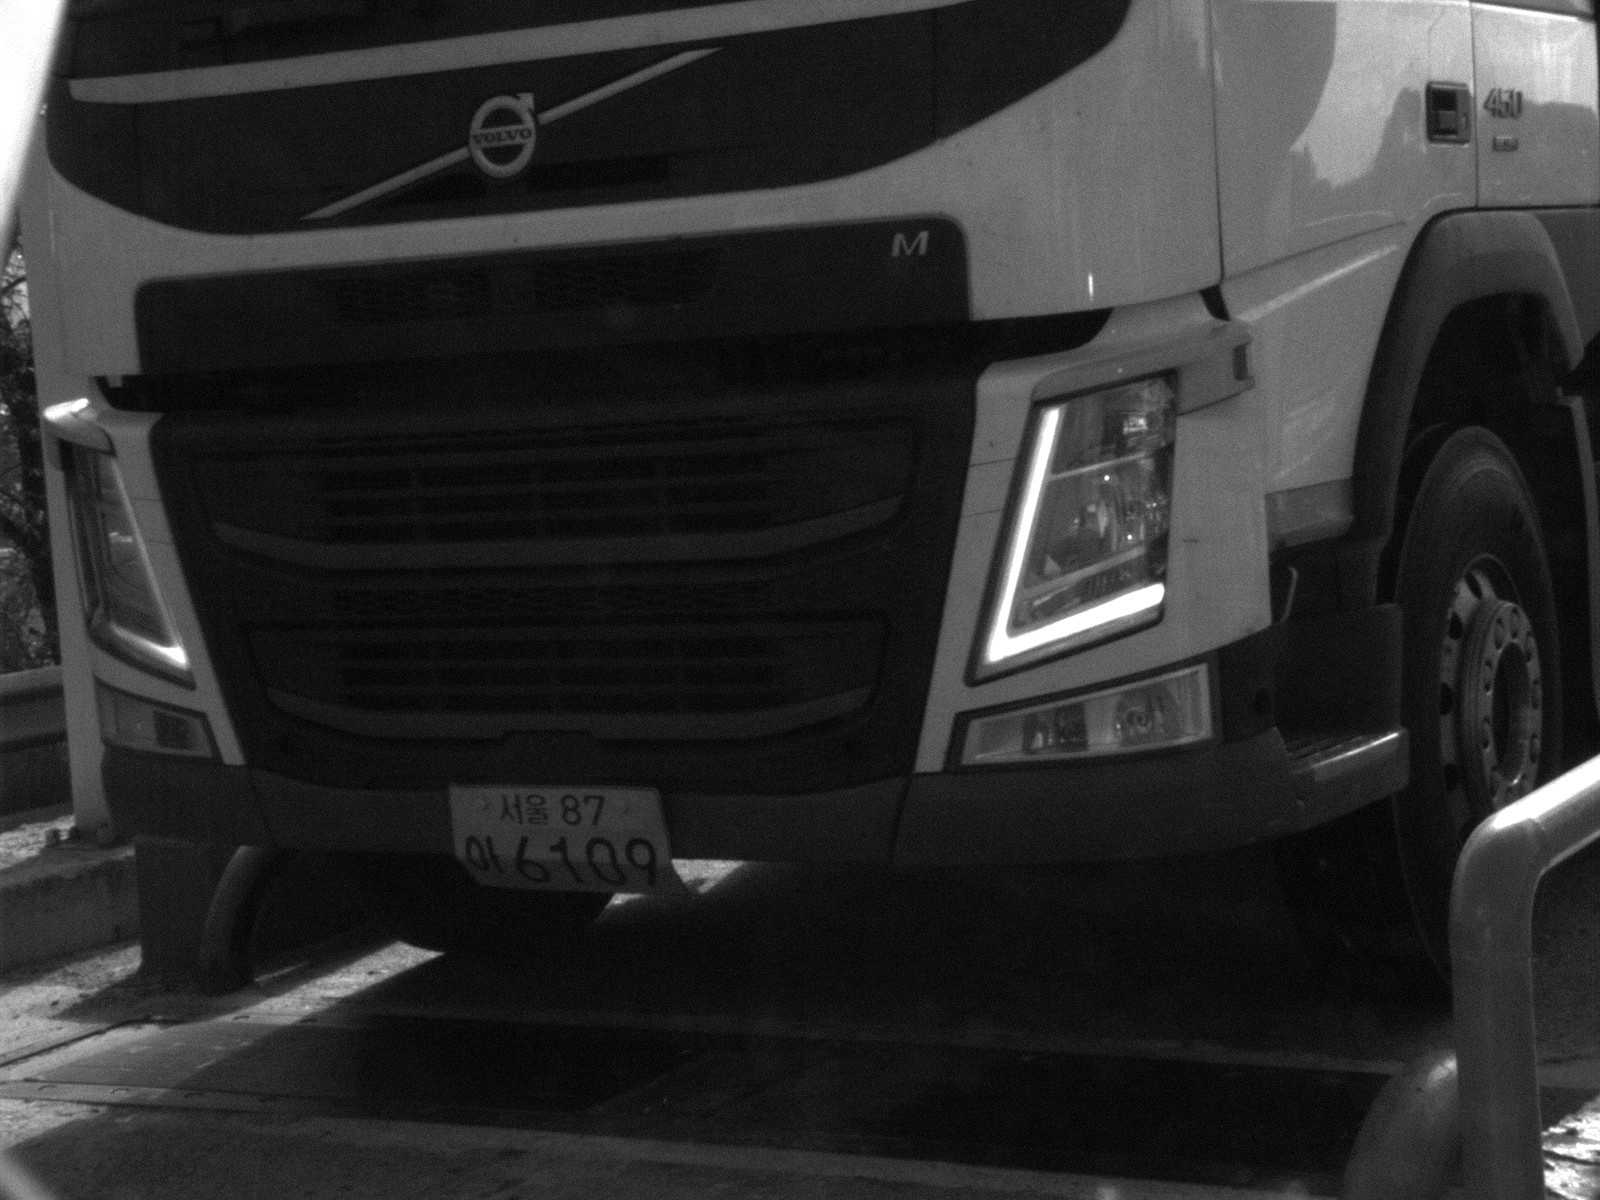car: (10, 1, 1599, 957)
plate: (440, 782, 695, 897)
